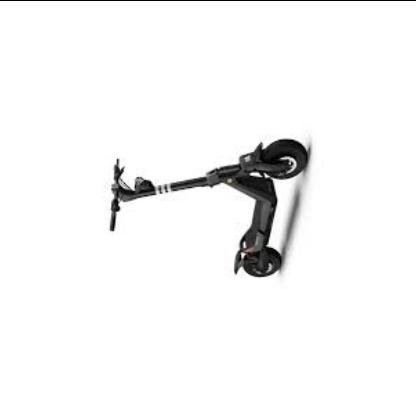bike: (109, 138, 311, 278)
